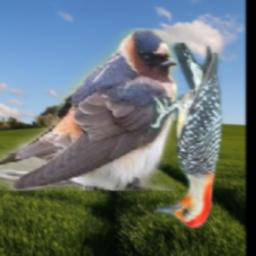Swallow: (0, 28, 177, 191)
Woodpecker: (152, 43, 224, 228)
